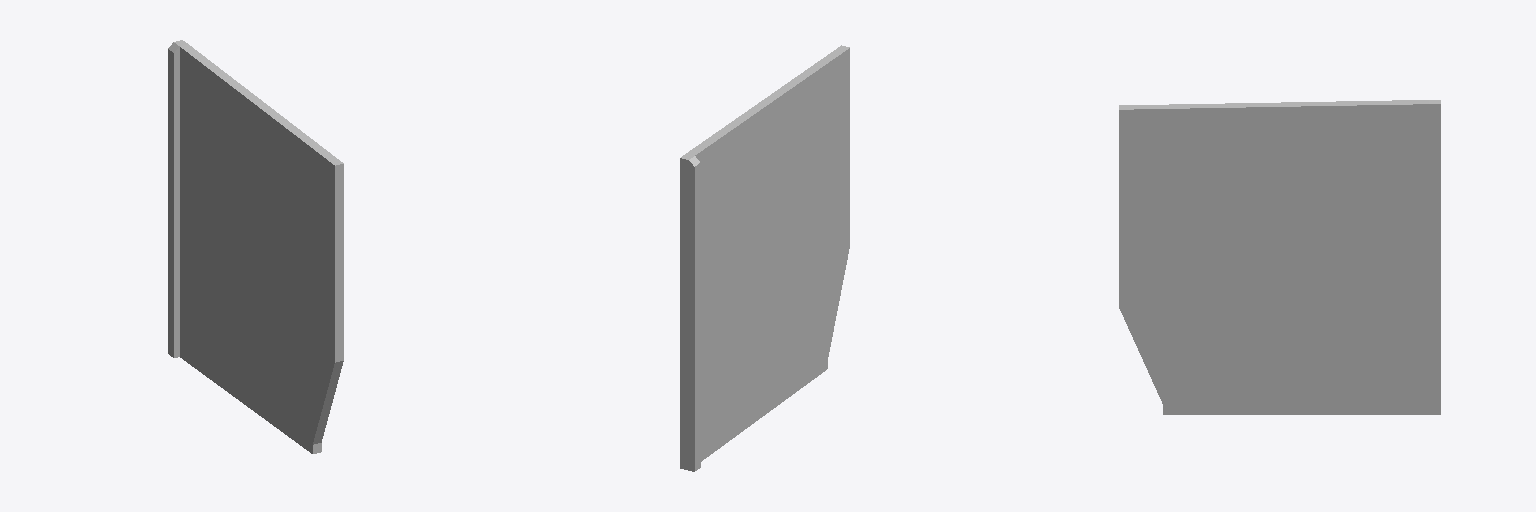
The model's file is doorL.obj.
3 renders of one model, left to right at view 1: azimuth 30°, elevation 25°; view 2: azimuth 150°, elevation 25°; view 3: azimuth 270°, elevation 25°, orthographic.
Parts seen in each view (by area): view 1: Door_L_Plane.006; view 2: Door_L_Plane.006; view 3: Door_L_Plane.006.
Boxes of the visible parts, x1,y1,x2,y2 form: Door_L_Plane.006: [168, 40, 343, 453]; Door_L_Plane.006: [680, 45, 849, 471]; Door_L_Plane.006: [1119, 100, 1440, 414].
Bounding box in the file's own units: 0.1343 × 2.75 × 2.59.